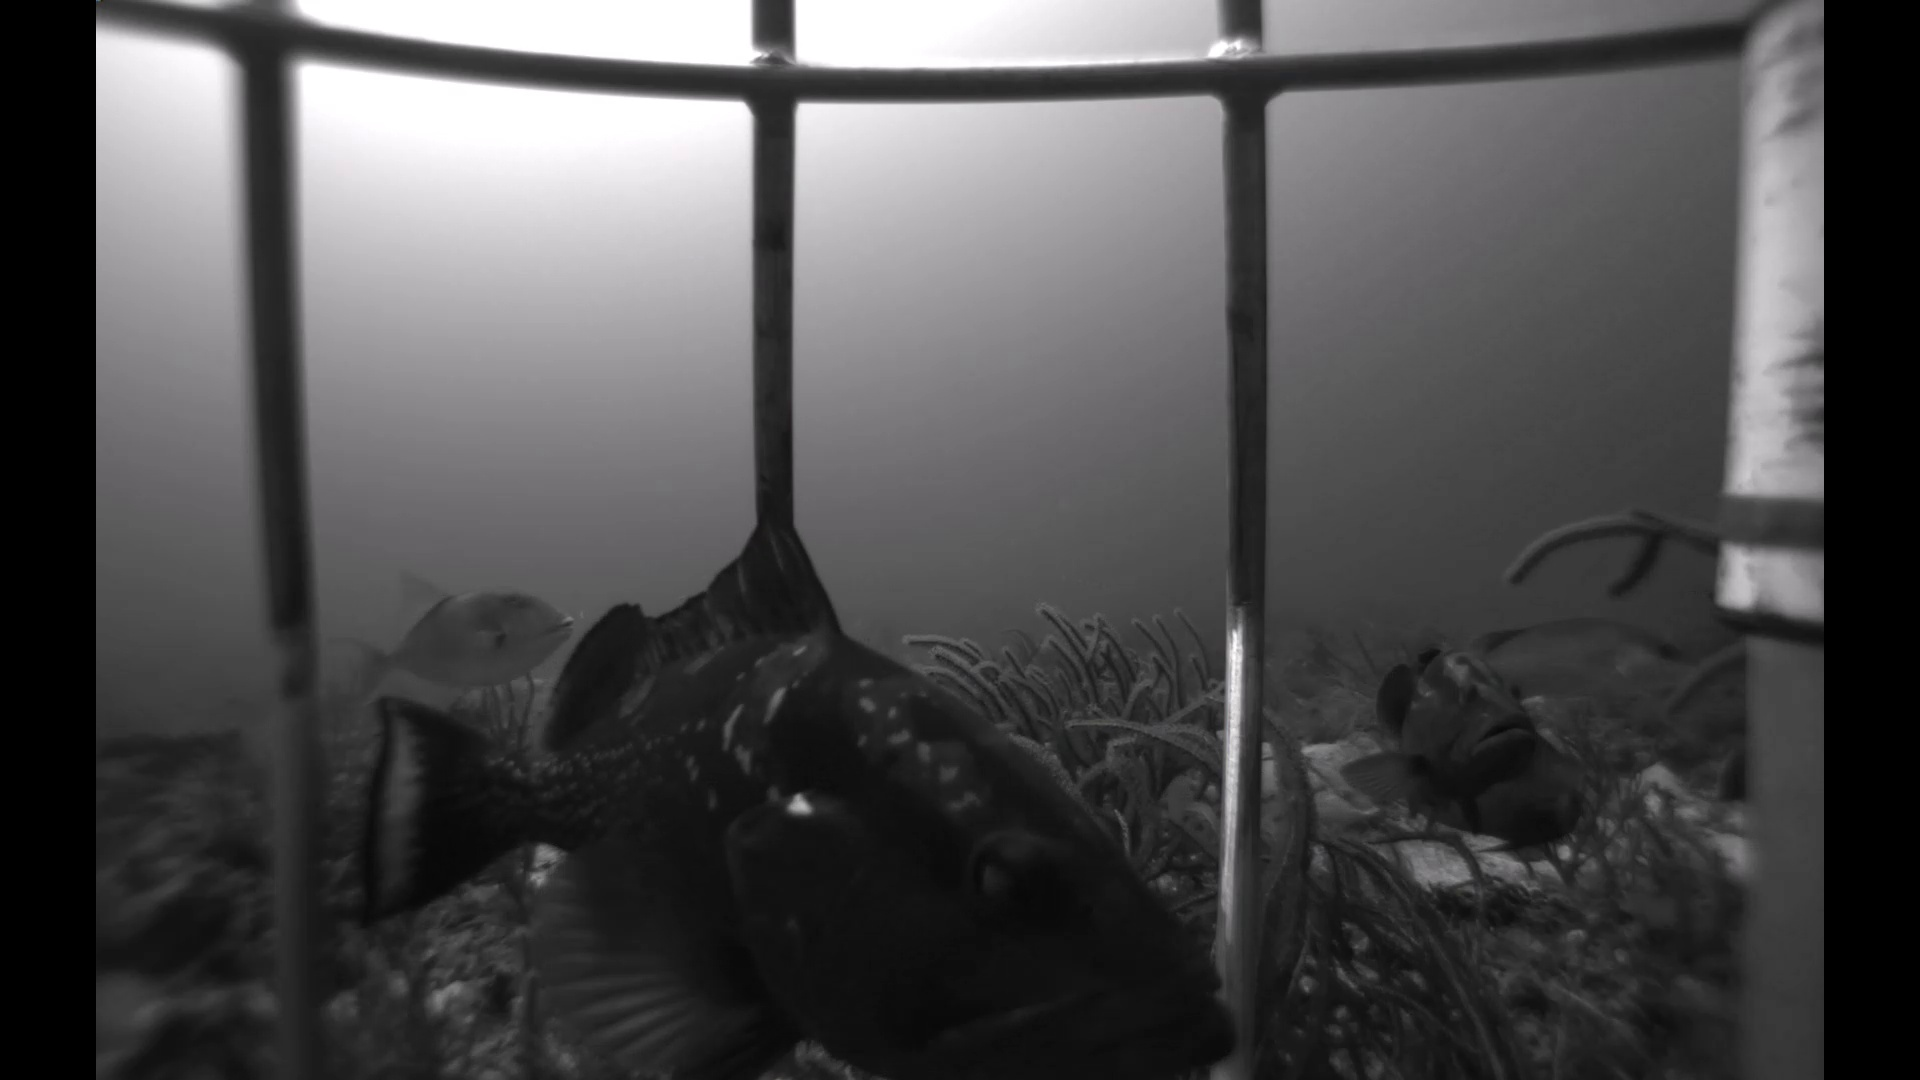BALISTESCAPRISCUS-189030502: (324, 566, 584, 720)
EPINEPHELUSMORIO-170021211: (336, 522, 1230, 1080), (1327, 637, 1545, 828)
LACHNOLAIMUSMAXIMUS-170281801: (1263, 750, 1390, 835)
LUTJANUSGRISEUS-170151109: (1429, 609, 1708, 713)
POMACANTHUSARCUATUS-170290201: (1402, 741, 1597, 862), (1704, 736, 1746, 808)
